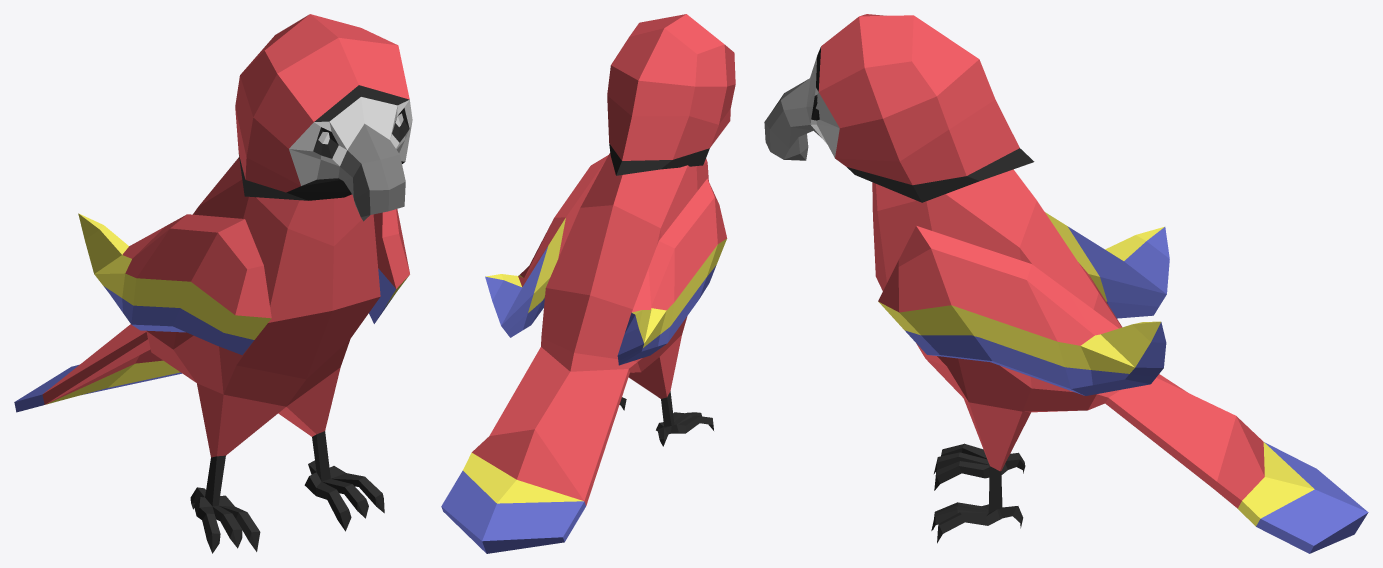
Rendered from Low_poly_pirate_parrot_3_pieces.glb.
3 renders of one model, left to right at view 1: azimuth 30°, elevation 25°; view 2: azimuth 150°, elevation 25°; view 3: azimuth 270°, elevation 25°, orthographic. The views are drawn at different scales.
Visible parts, largest first — view 1: cuerpo_Material #27_0, cabeza_Material #29_0, alas_Material #28_0; view 2: cuerpo_Material #27_0, cabeza_Material #29_0, alas_Material #28_0; view 3: cuerpo_Material #27_0, alas_Material #28_0, cabeza_Material #29_0.
Boxes of the visible parts, bbox=[...] form: cuerpo_Material #27_0: bbox=[14, 157, 384, 553]; cabeza_Material #29_0: bbox=[235, 14, 412, 221]; alas_Material #28_0: bbox=[78, 209, 409, 355]; cuerpo_Material #27_0: bbox=[441, 152, 713, 553]; cabeza_Material #29_0: bbox=[607, 14, 735, 175]; alas_Material #28_0: bbox=[485, 155, 727, 365]; cuerpo_Material #27_0: bbox=[872, 169, 1368, 553]; alas_Material #28_0: bbox=[878, 212, 1169, 395]; cabeza_Material #29_0: bbox=[764, 14, 1034, 202].
Size of the model in its own units: 11.57 by 29.1 by 30.91.
Materials: 3 (3 with a texture image).
